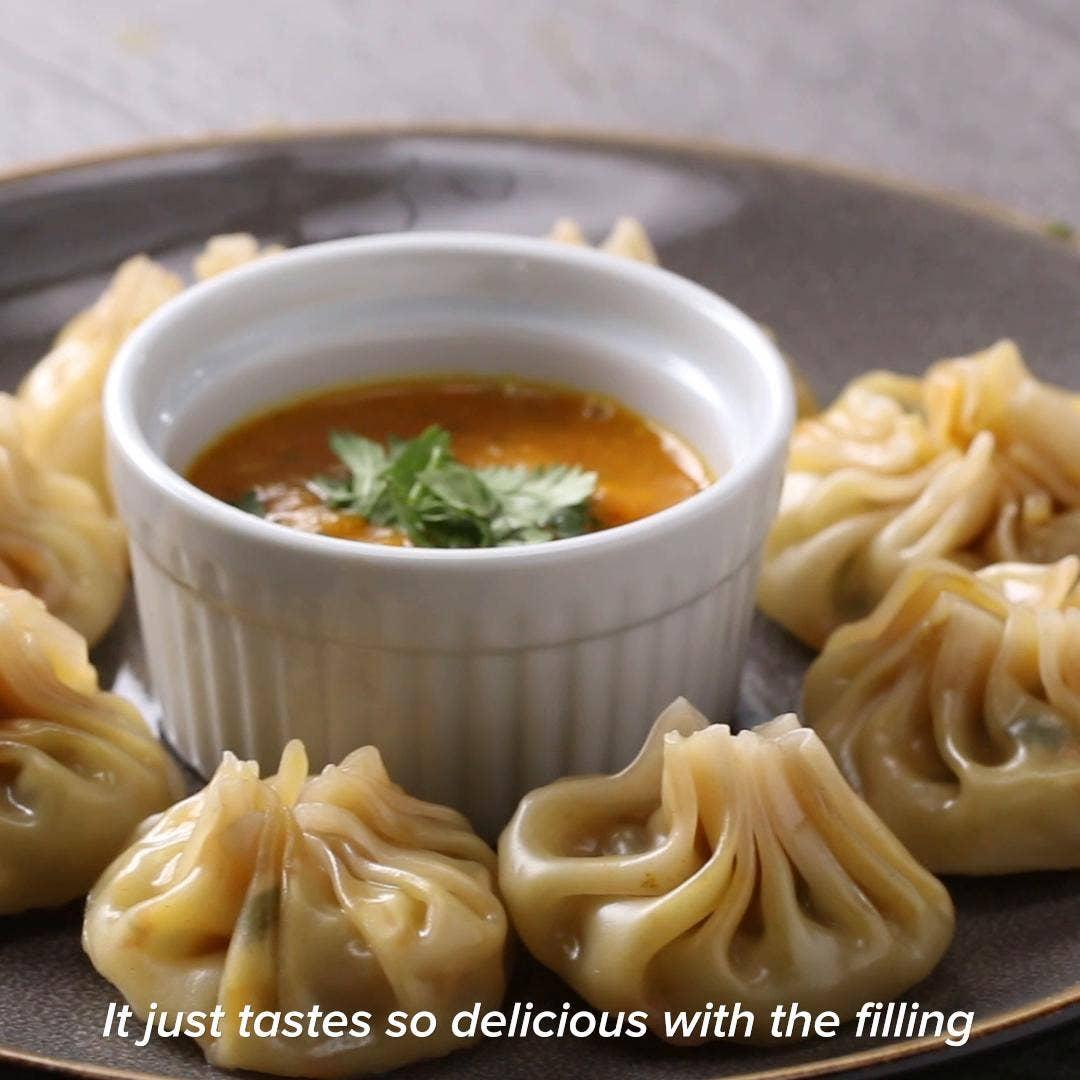momos: (766, 342, 1080, 873), (498, 700, 956, 1043), (500, 698, 953, 1044), (371, 872, 1080, 1079), (82, 740, 508, 1077), (454, 772, 911, 1044), (84, 759, 407, 1068), (806, 557, 1080, 874), (0, 586, 186, 912), (0, 903, 276, 1080)
